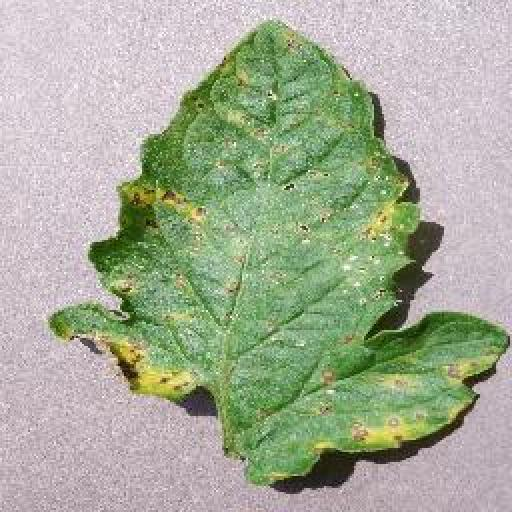disease_tomato: (47, 17, 511, 488)
